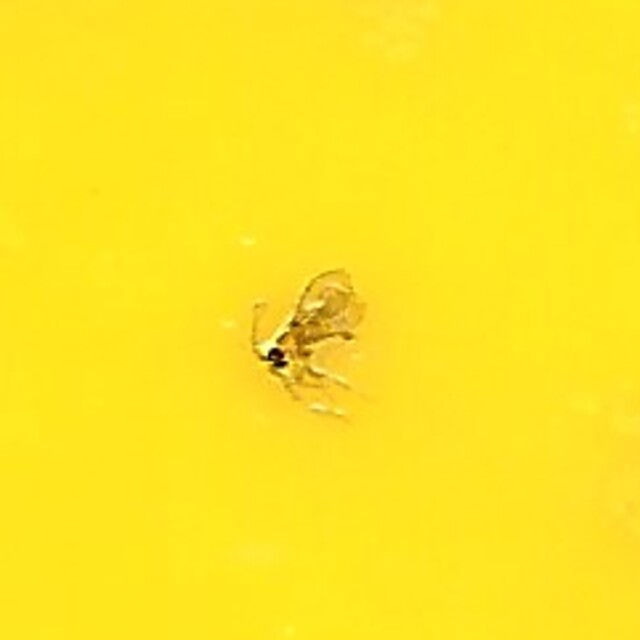Nematocera: (266, 266, 374, 374)
